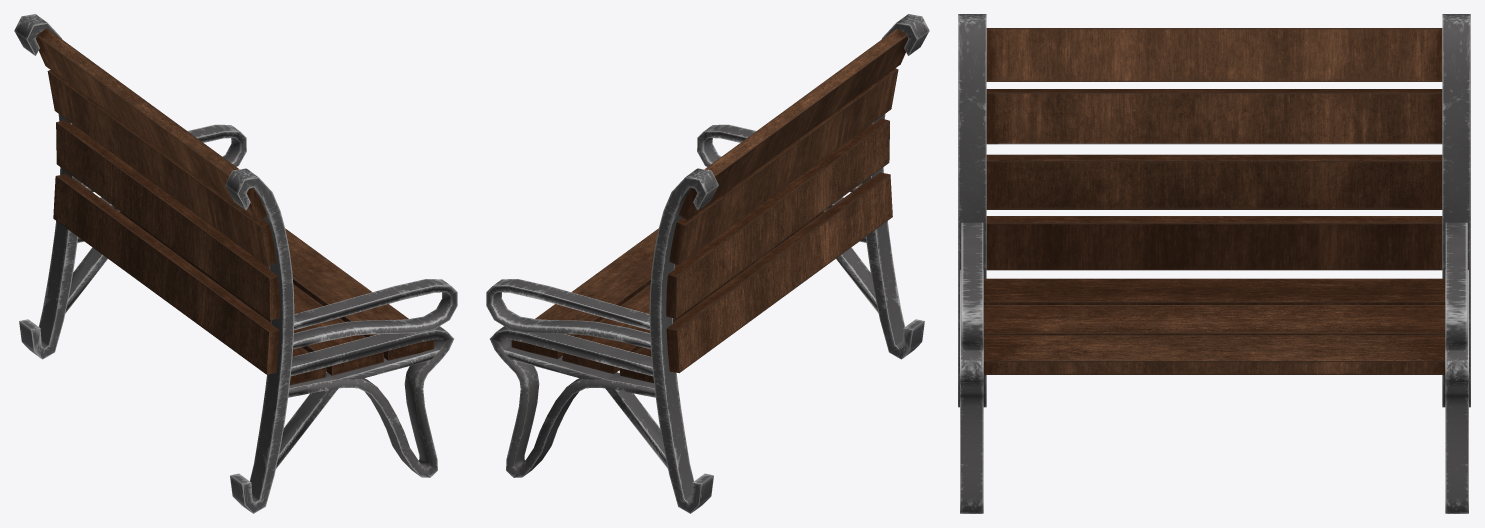
File: Bench.glb
The picture shows the model from 3 angles, left to right: view 1: azimuth 30°, elevation 25°; view 2: azimuth 150°, elevation 25°; view 3: azimuth 270°, elevation 25°; orthographic projection. The views are drawn at different scales.
Parts seen in each view (by area): view 1: polySurface60_polySurface60; view 2: polySurface60_polySurface60; view 3: polySurface60_polySurface60.
Boxes of the visible parts, left/top/right/bottom form: polySurface60_polySurface60: left=14, top=14, right=457, bottom=513; polySurface60_polySurface60: left=486, top=14, right=929, bottom=513; polySurface60_polySurface60: left=958, top=14, right=1470, bottom=513.
Size of the model in its own units: 8.99 by 13.34 by 15.67.
1 material, 1 textured.
